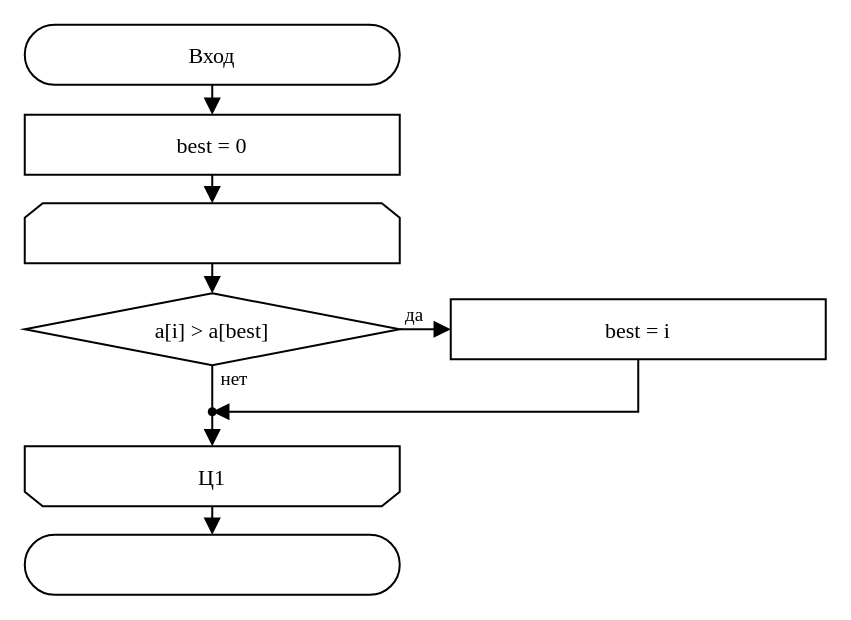
The diagram is 851 pixels wide and 620 high, and some of its shapes have lost their labels. The shapes that lost their labels are listed below. From the top down, each one's box as (x1, y1, x2, y2) in pixels, then its label:
(23, 201, 400, 263): Ц1: i = 1, …, n − 1
(23, 533, 400, 595): Выход: best
